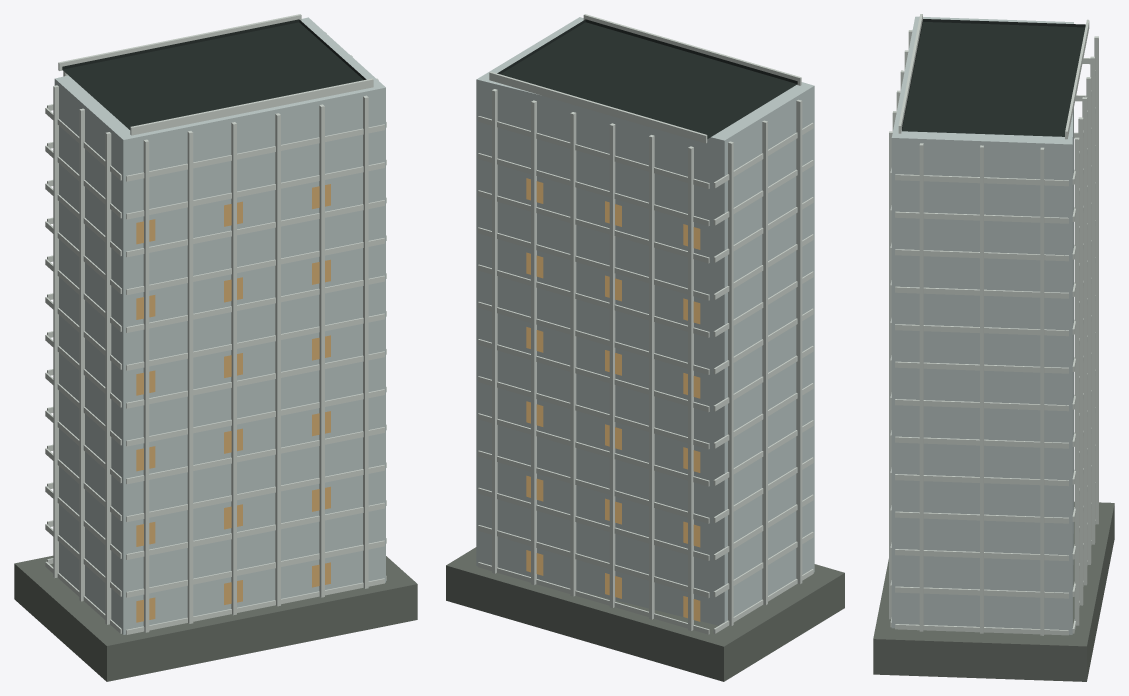
File: youxian-tower.glb
3 renders of one model, left to right at view 1: azimuth 30°, elevation 25°; view 2: azimuth 150°, elevation 25°; view 3: azimuth 270°, elevation 25°, orthographic.
Visible parts, largest first — view 1: envelope, fins, floor_bands, podium, roof_deck, night_windows, parapet; view 2: envelope, fins, floor_bands, podium, roof_deck, night_windows, parapet; view 3: envelope, fins, roof_deck, floor_bands, podium, parapet.
Boxes of the visible parts, <box> form: envelope: <box>54,17,385,634</box>; fins: <box>53,31,378,632</box>; floor_bands: <box>45,104,386,634</box>; podium: <box>14,555,417,681</box>; roof_deck: <box>62,19,366,129</box>; night_windows: <box>136,184,330,622</box>; parapet: <box>58,14,373,135</box>; envelope: <box>476,17,814,625</box>; fins: <box>492,89,802,630</box>; floor_bands: <box>478,116,813,634</box>; podium: <box>446,547,844,681</box>; roof_deck: <box>497,19,797,138</box>; night_windows: <box>526,178,700,621</box>; parapet: <box>489,14,801,143</box>; envelope: <box>891,16,1073,634</box>; fins: <box>889,30,1098,635</box>; roof_deck: <box>902,19,1085,136</box>; floor_bands: <box>890,58,1095,635</box>; podium: <box>873,501,1114,681</box>; parapet: <box>898,14,1089,139</box>.
Size of the model in its own units: 54.63 by 90.1 by 36.96.
